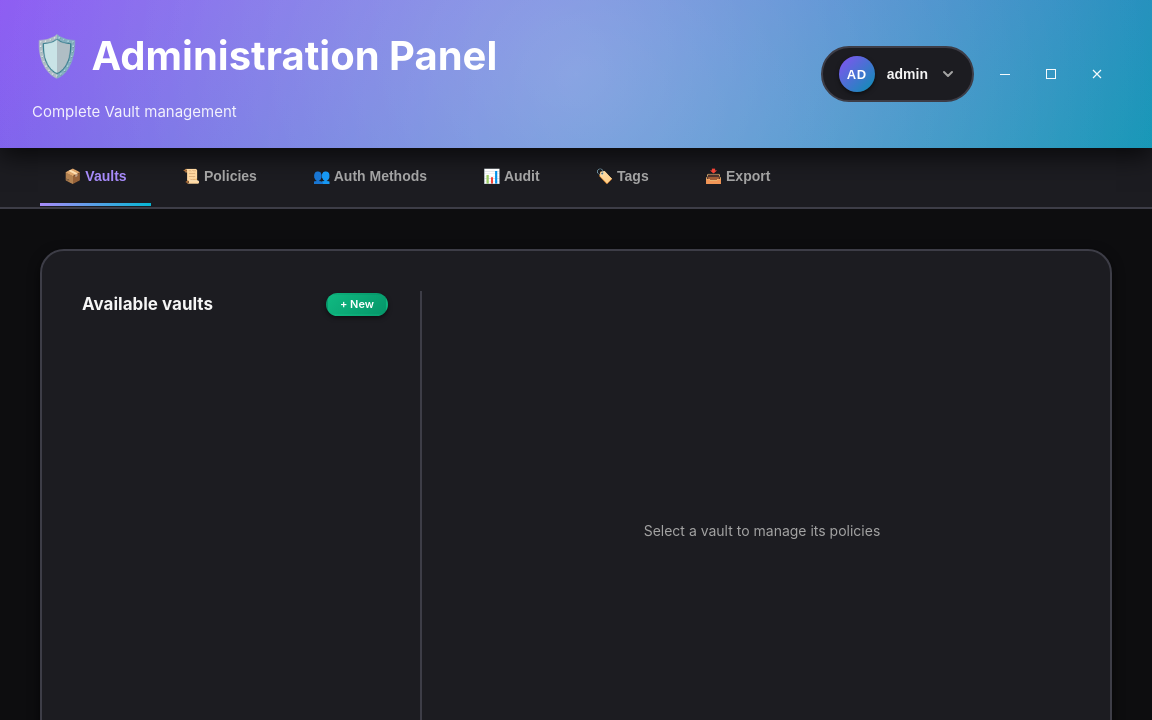
Test case: AdminPanel — aucune couleur codée en dur (thème sombre) › LDAP indisponible : encadré d'avertissement aux couleurs du thème
This screenshot has width=1152, height=720.
What coordinates should you click on to do the following:
click the tab with class "admin-tab" showing "👥 Auth Methods"
I would click on:
 (370, 178)
Its box is [289,148,451,207].
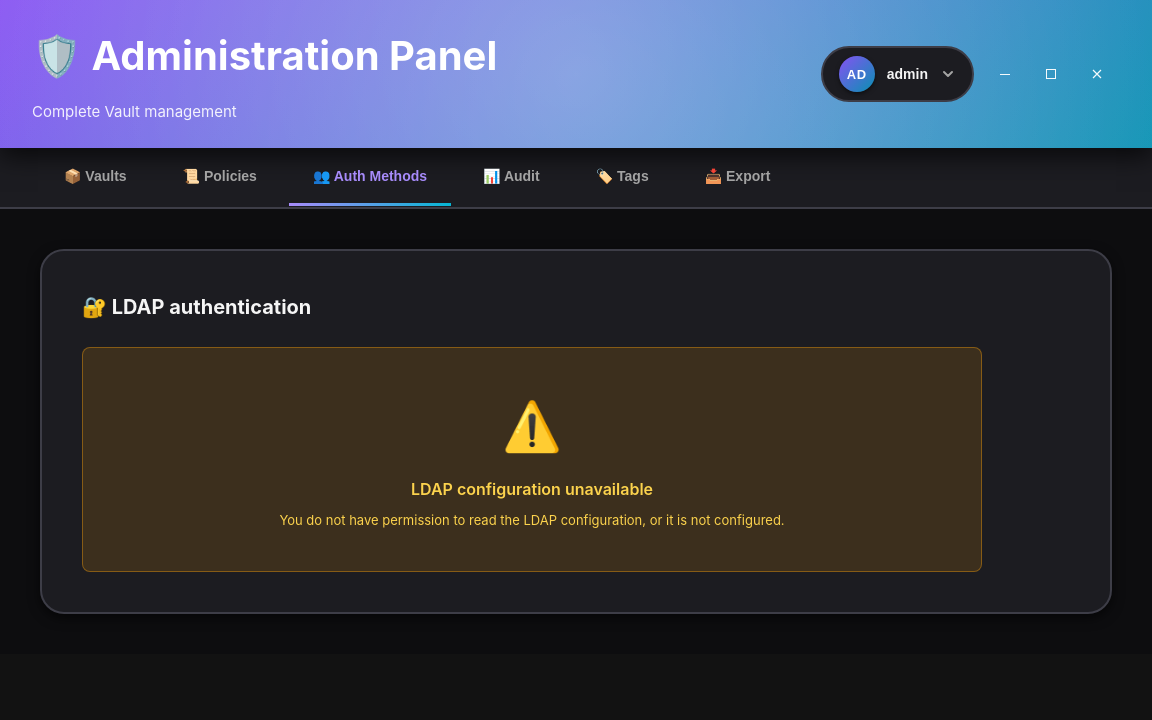
Expected: the text "LDAP configuration unavailable" is shown, [411,479,653,499]
